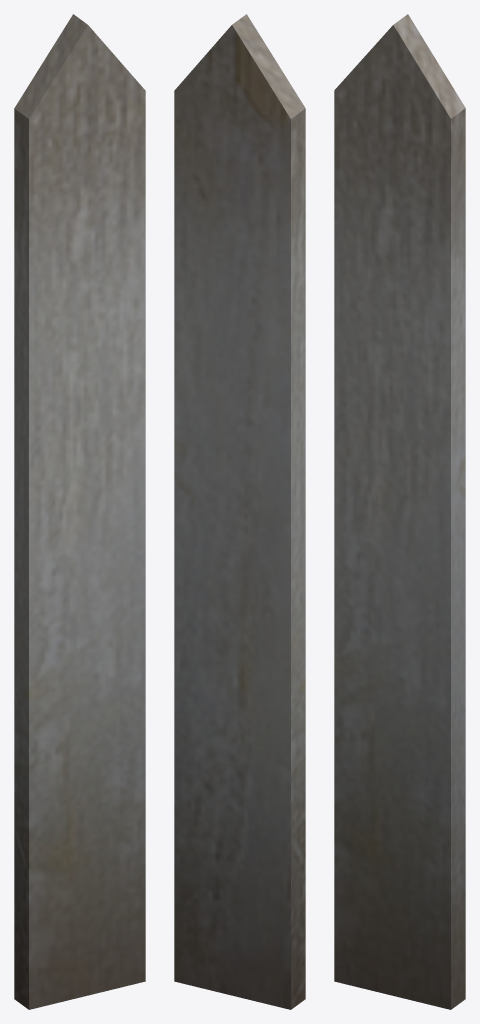
Rendered from Fence_4.fbx.
The picture shows the model from 3 angles, left to right: view 1: azimuth 30°, elevation 25°; view 2: azimuth 150°, elevation 25°; view 3: azimuth 330°, elevation 25°; orthographic projection.
Parts seen in each view (by area): view 1: Fence_4; view 2: Fence_4; view 3: Fence_4.
Boxes of the visible parts, x1=… form: Fence_4: x1=14, y1=14, x2=145, y2=1009; Fence_4: x1=174, y1=14, x2=305, y2=1009; Fence_4: x1=334, y1=14, x2=465, y2=1009.
Bounding box in the file's own units: 10 × 79.56 × 2.19.
